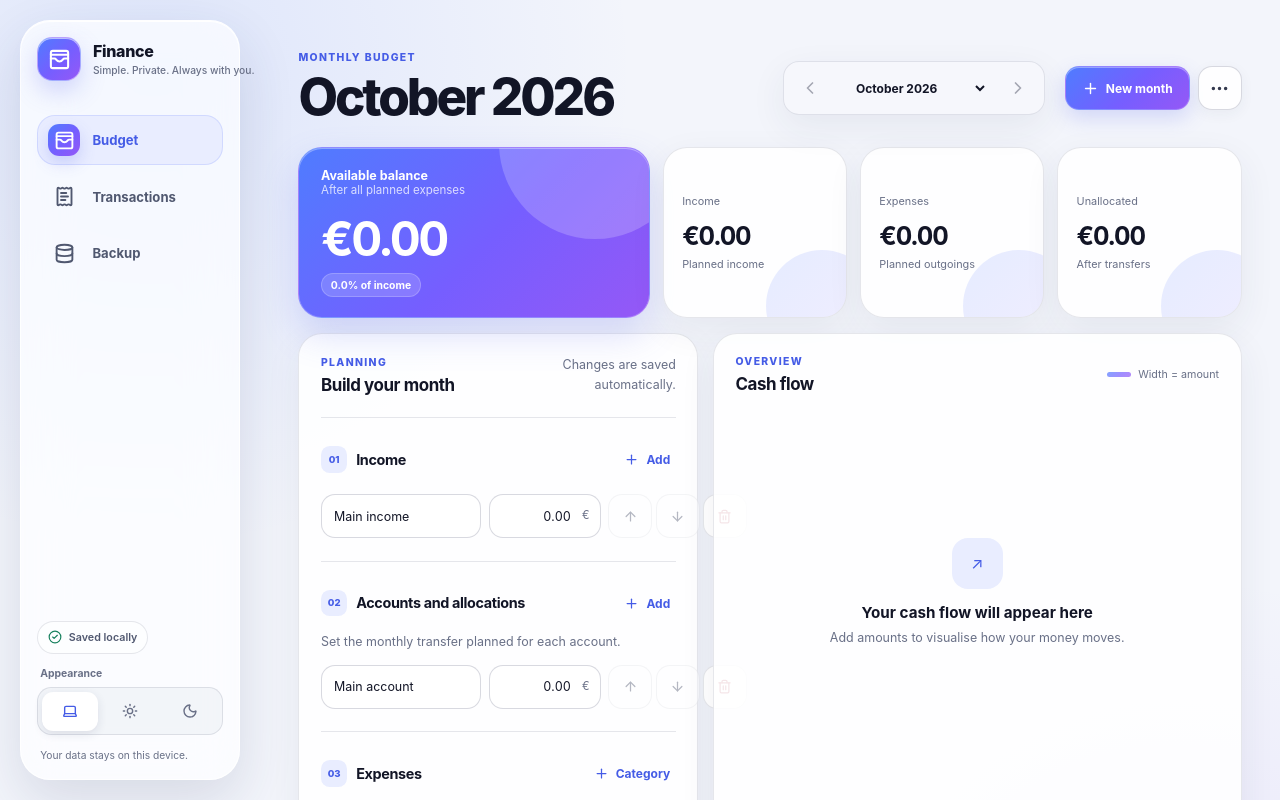
Test: budget application › creates a local month and updates totals after editing income
The width and height of the screenshot is (1280, 800).
Expected: the heading "Build your month" is shown, [321,375,455,395]
Replace the text in the field named "Amount for Main income" with "3000,50" at [545, 516], box [489,494,601,538]
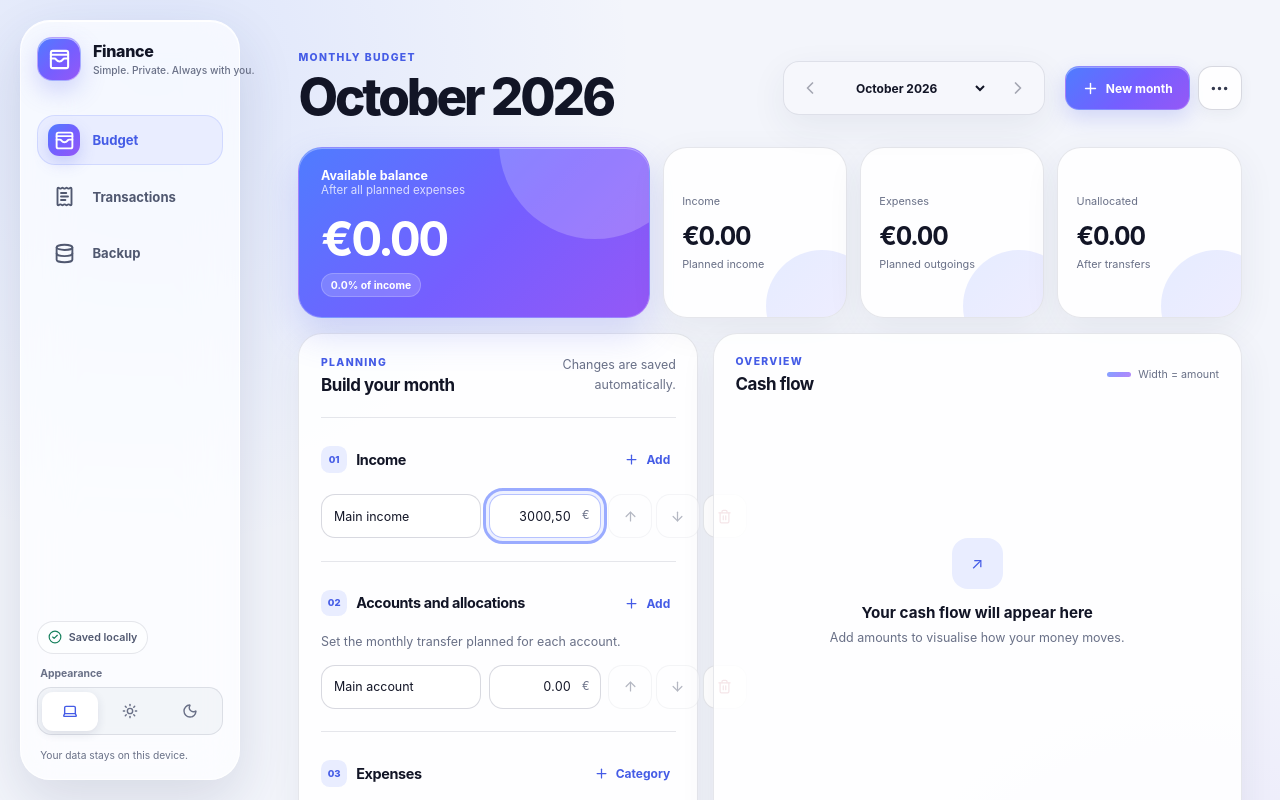
Press Tab
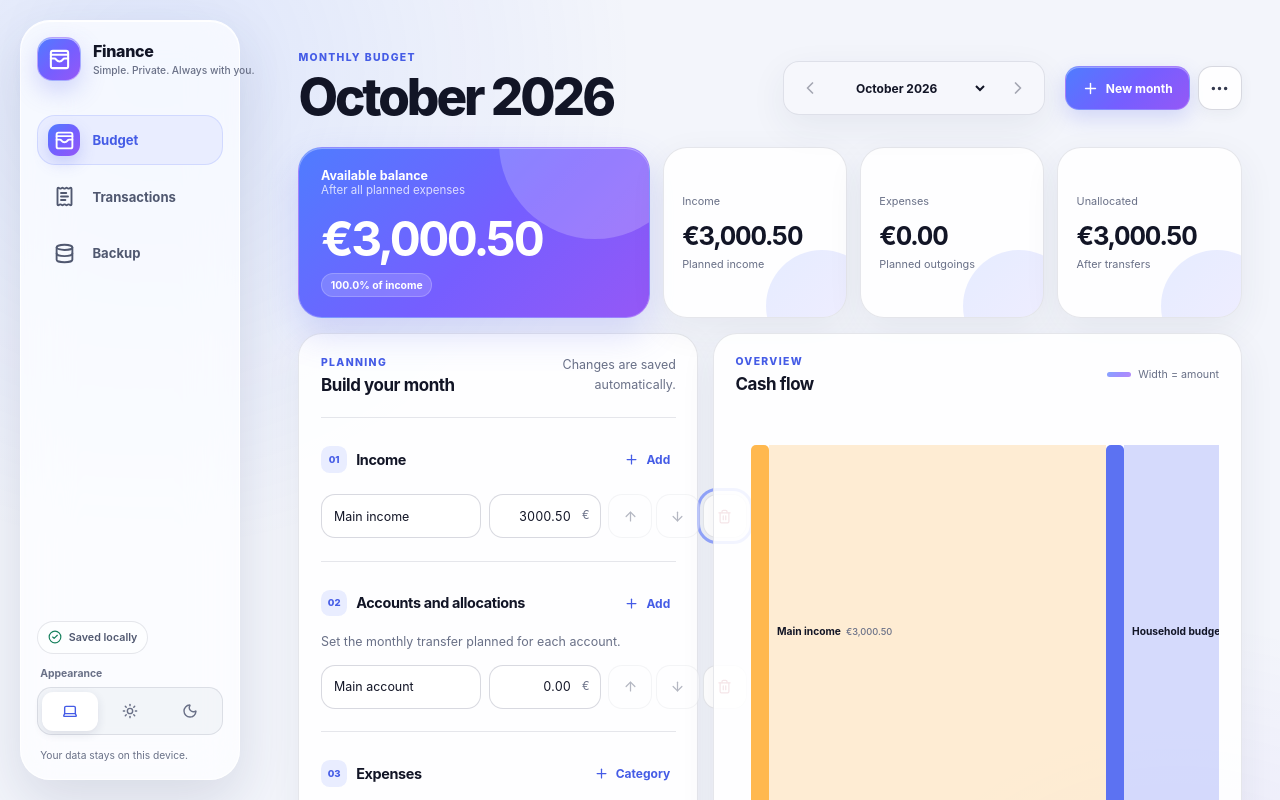
Expected: the text "Income" is shown, [682,194,720,208]
Result: the text "Income" shows "€3,000.50" at [682,220,802,251]
